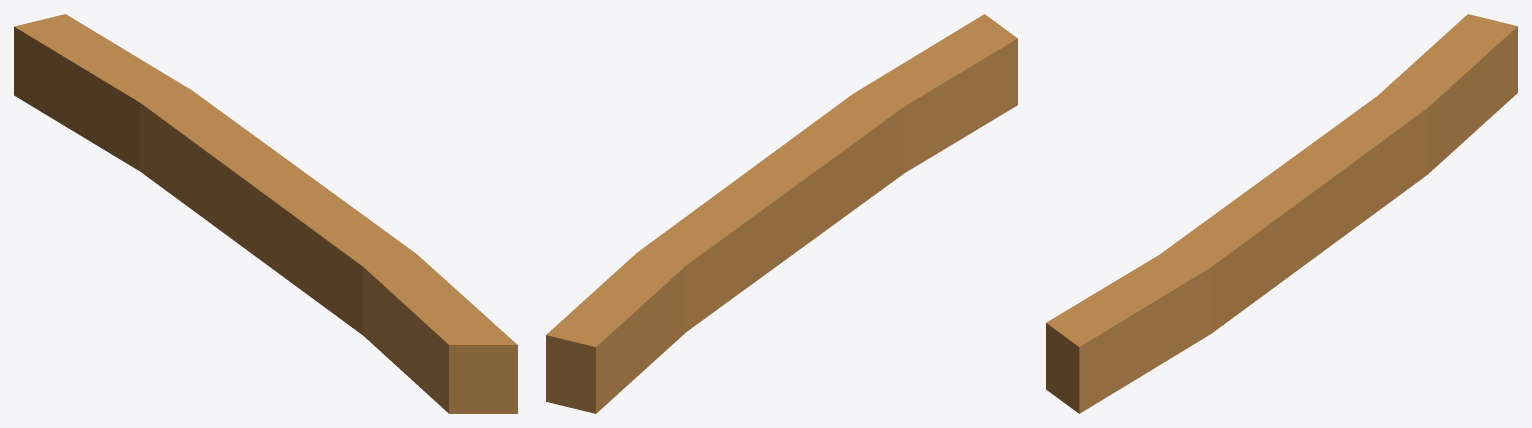
The model's file is Fry_03.fbx.
3 views of the same model, side by side, from view 1: azimuth 30°, elevation 25°; view 2: azimuth 150°, elevation 25°; view 3: azimuth 330°, elevation 25° (orthographic). The views are drawn at different scales.
Parts seen in each view (by area): view 1: Fry_03; view 2: Fry_03; view 3: Fry_03.
Boxes of the visible parts, left/top/right/bottom form: Fry_03: left=14, top=14, right=517, bottom=413; Fry_03: left=546, top=14, right=1017, bottom=413; Fry_03: left=1046, top=14, right=1517, bottom=413.
Bounding box in the file's own units: 0.0135 × 0.0128 × 0.1528.
